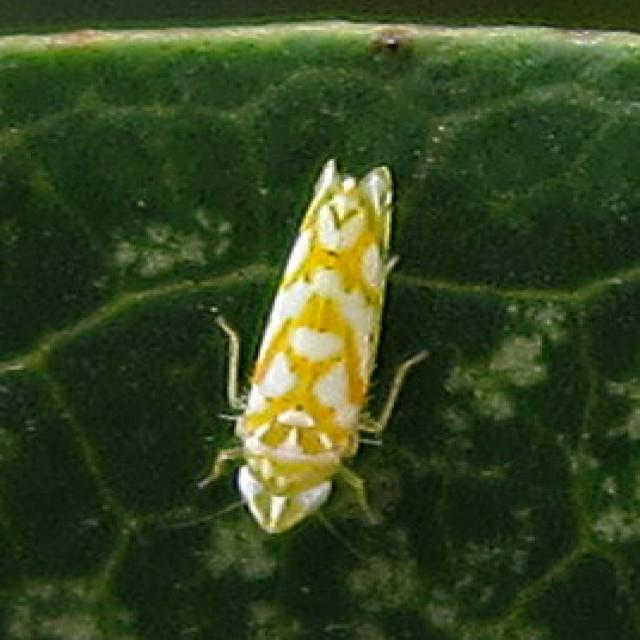Yechan: (209, 144, 412, 533)
